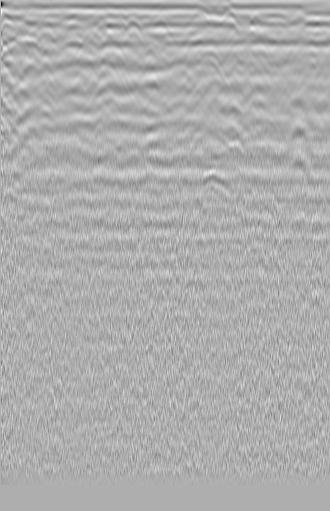가스: (196, 167, 232, 200)
상수: (299, 45, 328, 72)
오수: (0, 36, 33, 61)
우수: (135, 46, 164, 74)
